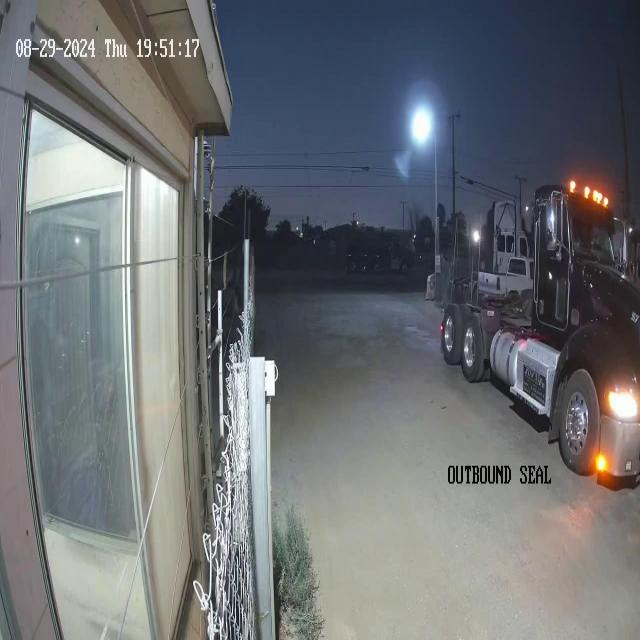TRUCK_IN: (437, 180, 639, 488)
